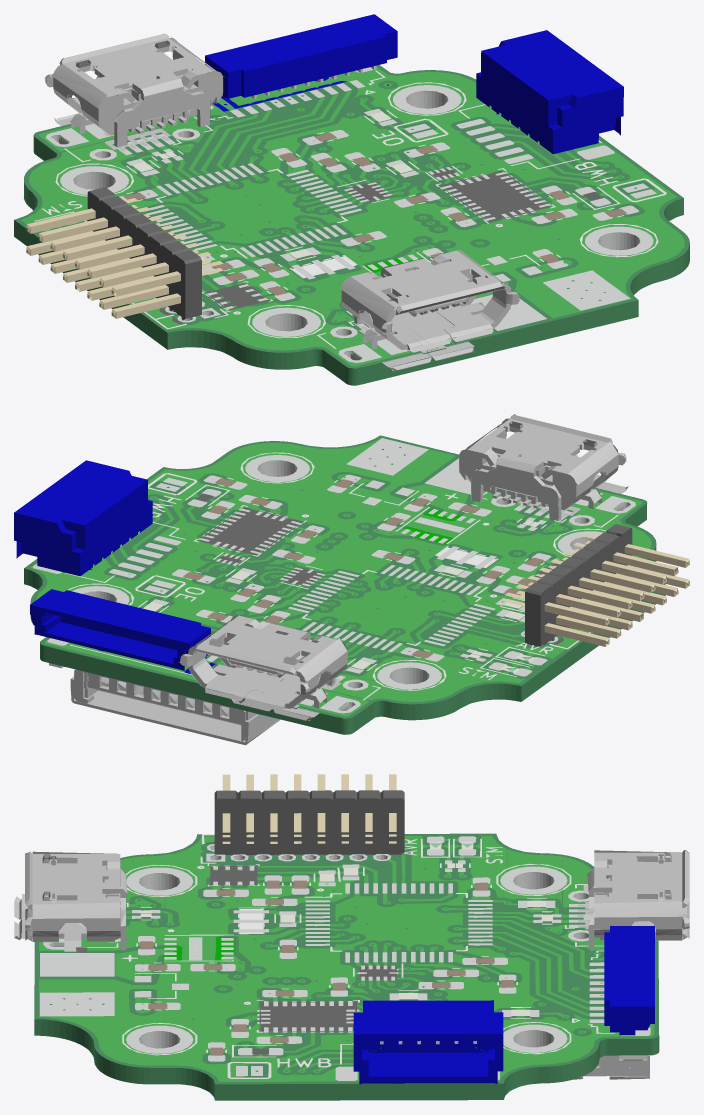
The model's file is pcb.fbx.
3 renders of one model, top to bottom at view 1: azimuth 30°, elevation 25°; view 2: azimuth 150°, elevation 25°; view 3: azimuth 270°, elevation 25°, orthographic. The views are drawn at different scales.
Parts seen in each view (by area): view 1: SHAPE_41_IndexedFaceSet.002; view 2: SHAPE_41_IndexedFaceSet.002; view 3: SHAPE_41_IndexedFaceSet.002.
Part boxes in pixels (bbox=[...]): SHAPE_41_IndexedFaceSet.002: bbox=[14, 14, 689, 385]; SHAPE_41_IndexedFaceSet.002: bbox=[14, 414, 689, 745]; SHAPE_41_IndexedFaceSet.002: bbox=[14, 774, 689, 1100].
Size of the model in its own units: 3466 by 668 by 3613.
